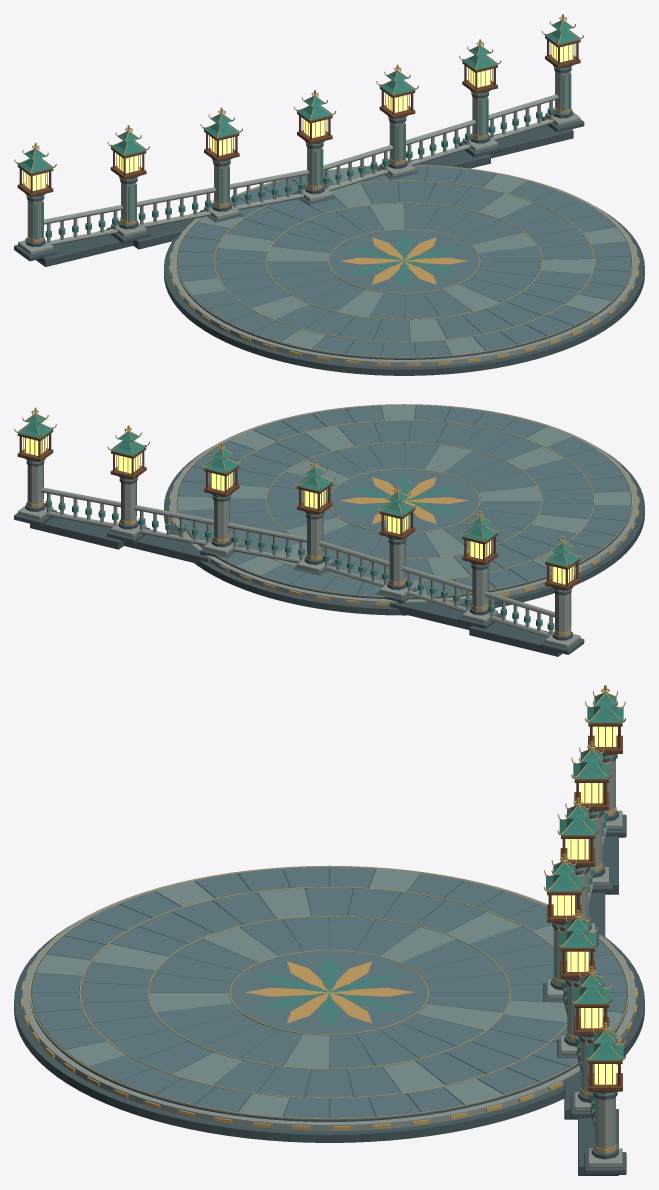
File: river-arena.glb
The picture shows the model from 3 angles, top to bottom: view 1: azimuth 30°, elevation 25°; view 2: azimuth 150°, elevation 25°; view 3: azimuth 270°, elevation 25°; orthographic projection. The views are drawn at different scales.
Parts seen in each view (by area): view 1: StonePlatformMesh, LanternGalleryMesh, RiverBalustradeMesh; view 2: StonePlatformMesh, LanternGalleryMesh, RiverBalustradeMesh; view 3: StonePlatformMesh, LanternGalleryMesh, RiverBalustradeMesh.
Boxes of the visible parts, x1,y1,x2,y2 form: StonePlatformMesh: [164, 164, 644, 375]; LanternGalleryMesh: [14, 14, 584, 261]; RiverBalustradeMesh: [36, 94, 573, 266]; StonePlatformMesh: [164, 404, 644, 615]; LanternGalleryMesh: [14, 407, 584, 654]; RiverBalustradeMesh: [30, 487, 562, 656]; StonePlatformMesh: [14, 865, 644, 1142]; LanternGalleryMesh: [543, 685, 626, 1174]; RiverBalustradeMesh: [561, 810, 618, 1175].
Bounding box in the file's own units: 21.48 × 4.38 × 16.12.
